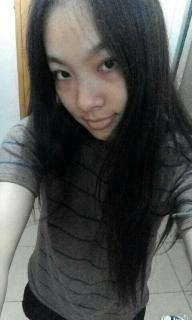short sleeve top: (0, 103, 192, 320)
